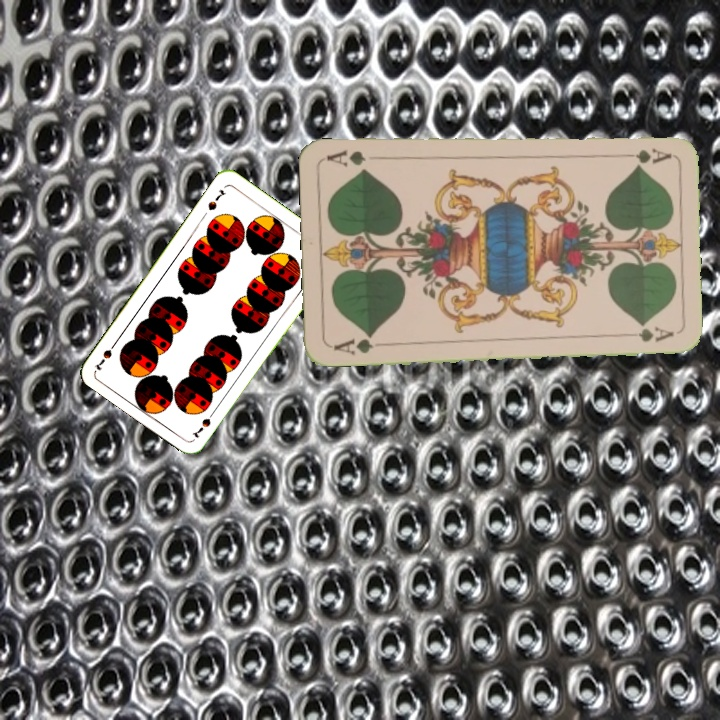GA: (330, 330, 376, 358), (613, 144, 673, 165)
S7: (188, 406, 218, 441), (204, 185, 229, 213)
